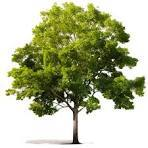plant: (11, 2, 145, 147)
